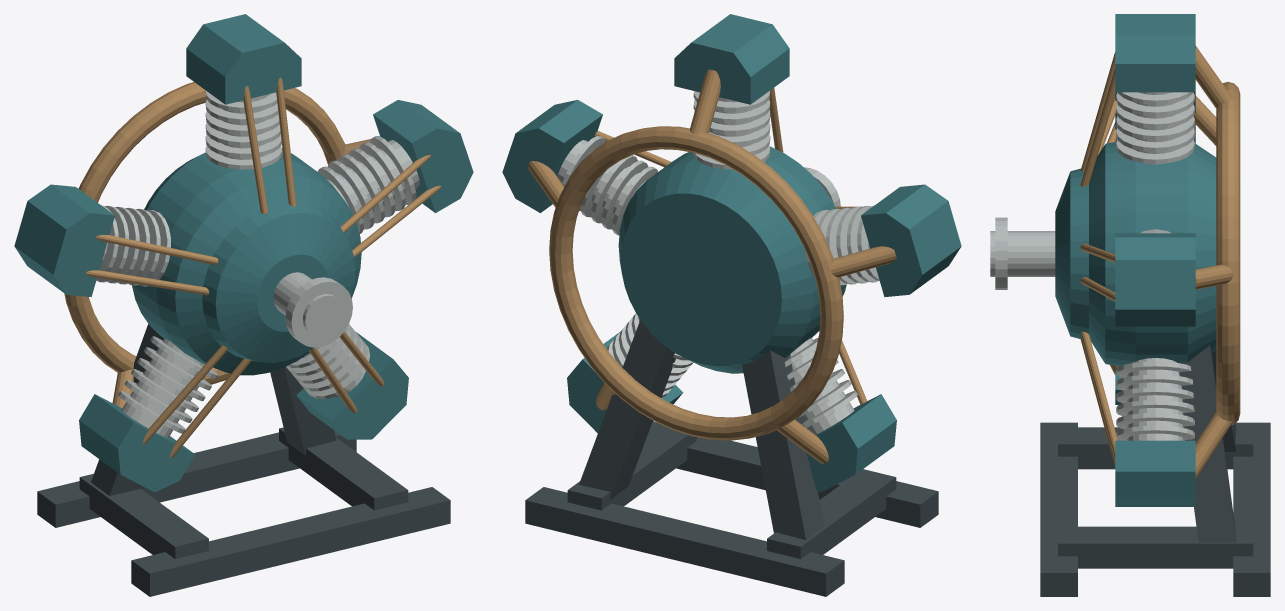
The picture shows the model from 3 angles, left to right: view 1: azimuth 30°, elevation 25°; view 2: azimuth 150°, elevation 25°; view 3: azimuth 270°, elevation 25°; orthographic projection. The views are drawn at different scales.
Visible parts, largest first — view 1: WholeTwinRailDisplayCarrier, WholeCentralCrankcaseExterior, WholeFrontTimingCover, WholeRearAnnularCollectorExterior, WholeRadialRockerHead1, WholeRadialRockerHead0, WholeRadialRockerHead2, WholeRadialRockerHead4, WholeIntegralFinnedRadialCylinder4, WholeIntegralFinnedRadialCylinder2, WholeRadialRockerHead3, WholeIntegralFinnedRadialCylinder0 (+15 smaller); view 2: WholeCentralCrankcaseExterior, WholeTwinRailDisplayCarrier, WholeRearAnnularCollectorExterior, WholeRadialRockerHead1, WholeRearCrankcaseStand-1, WholeRadialRockerHead0, WholeRearCrankcaseStand1, WholeRadialRockerHead4, WholeRadialRockerHead2, WholeIntegralFinnedRadialCylinder4, WholeIntegralFinnedRadialCylinder0, WholeIntegralFinnedRadialCylinder2 (+7 smaller); view 3: WholeTwinRailDisplayCarrier, WholeCentralCrankcaseExterior, WholeRearAnnularCollectorExterior, WholeRadialRockerHead4, WholeRadialRockerHead0, WholeIntegralFinnedRadialCylinder3, WholeRadialRockerHead3, WholeIntegralFinnedRadialCylinder0, WholeRearCrankcaseStand1, WholeFrontTimingCover, WholeForwardOutputStub, WholeRearCollectorBranch3 (+8 smaller).
Part boxes in pixels (bbox=[...]): WholeTwinRailDisplayCarrier: bbox=[37, 427, 450, 596]; WholeCentralCrankcaseExterior: bbox=[132, 148, 361, 375]; WholeFrontTimingCover: bbox=[202, 202, 355, 362]; WholeRearAnnularCollectorExterior: bbox=[64, 82, 345, 386]; WholeRadialRockerHead1: bbox=[14, 184, 114, 297]; WholeRadialRockerHead0: bbox=[186, 14, 301, 104]; WholeRadialRockerHead2: bbox=[79, 394, 195, 492]; WholeRadialRockerHead4: bbox=[373, 100, 473, 212]; WholeIntegralFinnedRadialCylinder4: bbox=[317, 136, 419, 233]; WholeIntegralFinnedRadialCylinder2: bbox=[118, 336, 218, 437]; WholeRadialRockerHead3: bbox=[296, 331, 408, 439]; WholeIntegralFinnedRadialCylinder0: bbox=[205, 90, 282, 169]; WholeCentralCrankcaseExterior: bbox=[618, 146, 846, 373]; WholeTwinRailDisplayCarrier: bbox=[525, 421, 938, 596]; WholeRearAnnularCollectorExterior: bbox=[549, 126, 843, 440]; WholeRadialRockerHead1: bbox=[861, 184, 961, 297]; WholeRearCrankcaseStand-1: bbox=[742, 350, 824, 539]; WholeRadialRockerHead0: bbox=[674, 14, 789, 104]; WholeRearCrankcaseStand1: bbox=[579, 320, 675, 499]; WholeRadialRockerHead4: bbox=[502, 100, 602, 212]; WholeRadialRockerHead2: bbox=[806, 394, 896, 492]; WholeIntegralFinnedRadialCylinder4: bbox=[557, 136, 658, 235]; WholeIntegralFinnedRadialCylinder0: bbox=[693, 90, 770, 169]; WholeIntegralFinnedRadialCylinder2: bbox=[784, 338, 857, 434]; WholeTwinRailDisplayCarrier: bbox=[1040, 422, 1270, 596]; WholeCentralCrankcaseExterior: bbox=[1089, 142, 1216, 366]; WholeRearAnnularCollectorExterior: bbox=[1216, 81, 1240, 425]; WholeRadialRockerHead4: bbox=[1115, 233, 1195, 326]; WholeRadialRockerHead0: bbox=[1115, 14, 1195, 92]; WholeIntegralFinnedRadialCylinder3: bbox=[1116, 358, 1194, 440]; WholeRadialRockerHead3: bbox=[1115, 440, 1195, 506]; WholeIntegralFinnedRadialCylinder0: bbox=[1116, 92, 1194, 164]; WholeRearCrankcaseStand1: bbox=[1177, 345, 1236, 542]; WholeFrontTimingCover: bbox=[1055, 168, 1088, 338]; WholeForwardOutputStub: bbox=[990, 231, 1055, 276]; WholeRearCollectorBranch3: bbox=[1195, 411, 1232, 478].
Size of the model in its own units: 1.98 by 2.19 by 1.12.
